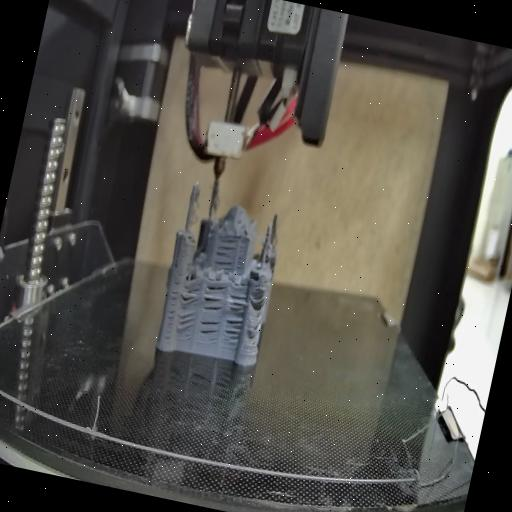cracks: (219, 288, 248, 344), (160, 276, 182, 342), (201, 280, 228, 316), (214, 234, 240, 269), (194, 314, 224, 342), (178, 279, 203, 307), (174, 310, 198, 336), (248, 289, 268, 311), (244, 318, 262, 342)
